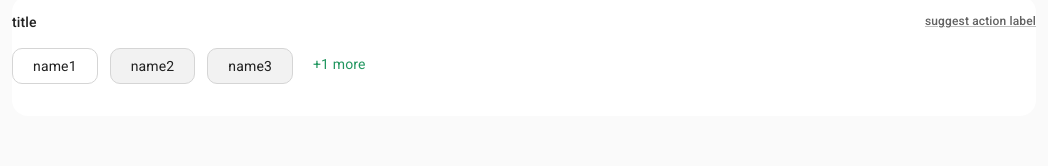
Test: SelectionPanel Tests › should show tooltip on hover
This screenshot has width=1048, height=166.
Hover over the button "name1" at (55, 66), box [12, 48, 98, 84]
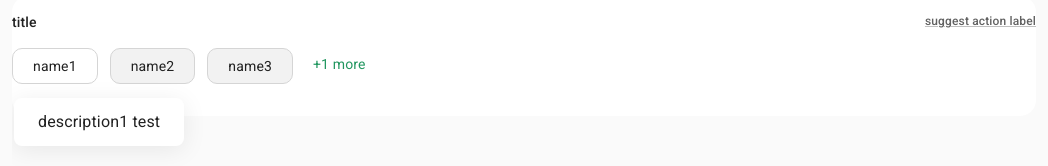
Result: the tooltip "description1 test" is shown at [12, 84, 186, 149]
Result: the text "description1 test" is shown at [38, 110, 160, 134]
